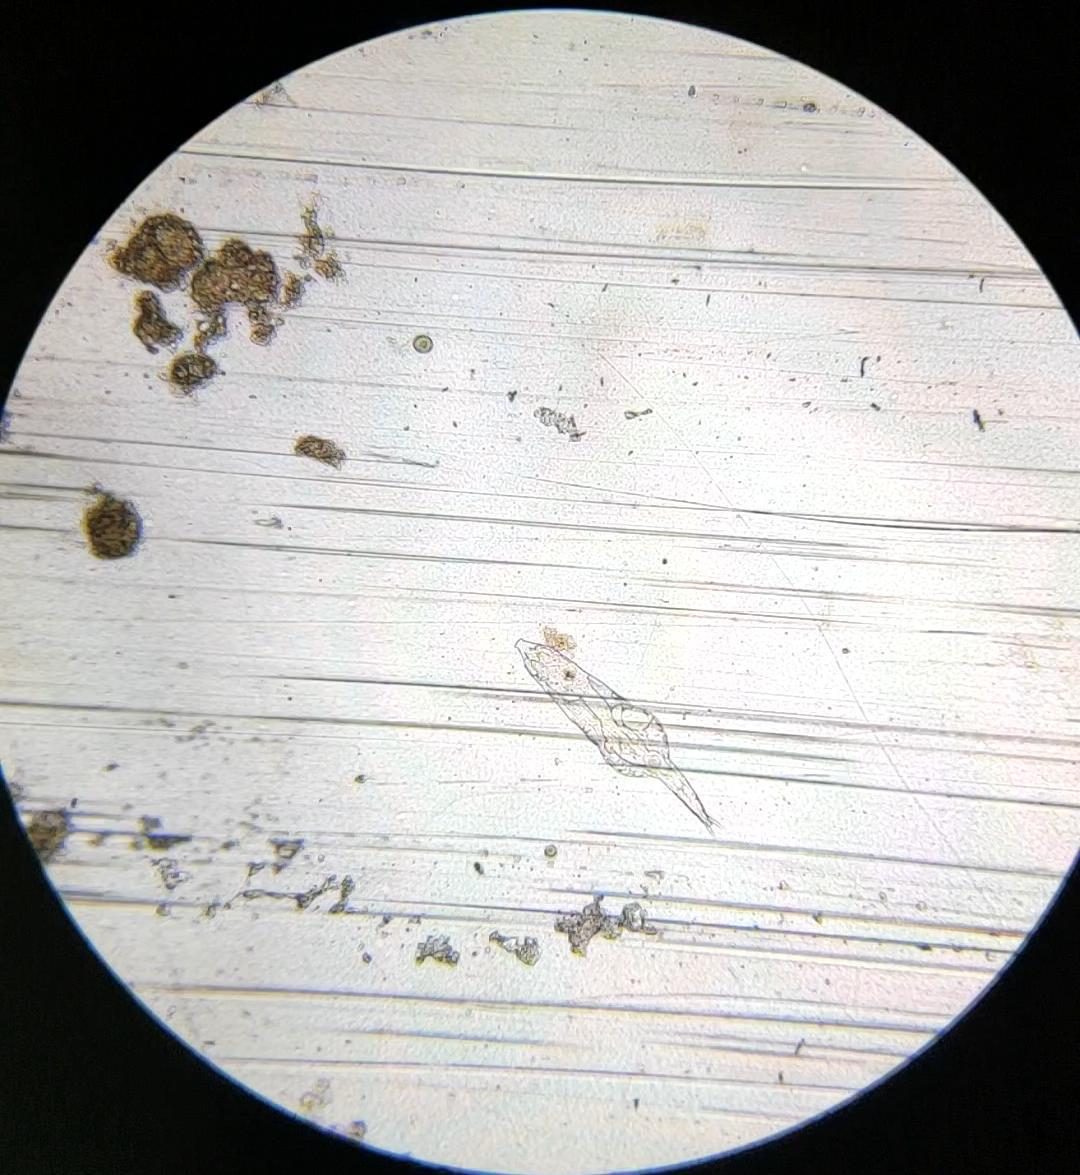Do: (515, 636, 724, 838)
